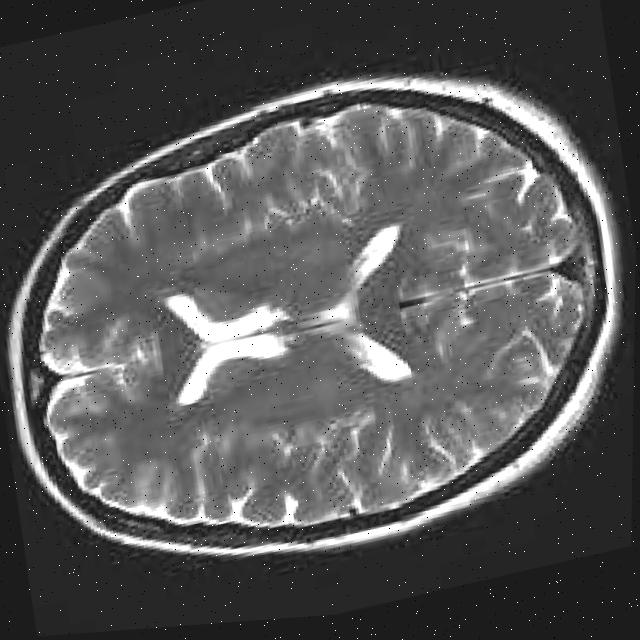NoTumor: (0, 38, 632, 595)
